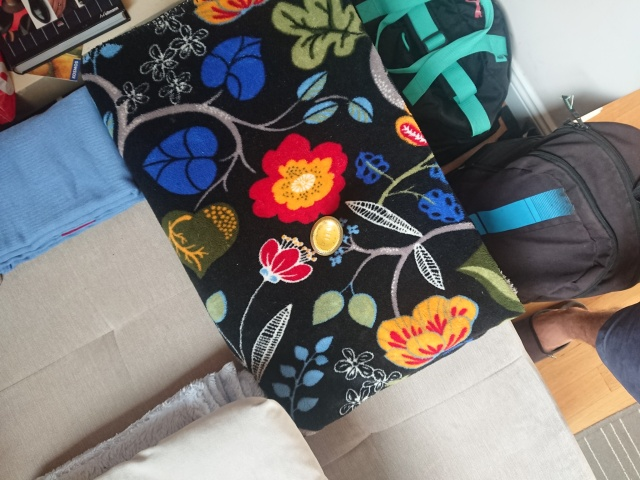Kotanyi Curry Spices Mix 70g: (308, 213, 345, 257)
